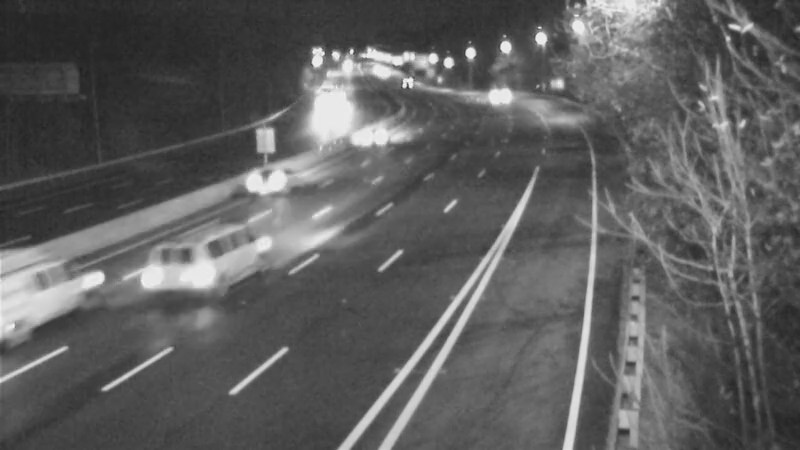vehicle: (246, 136, 326, 216), (153, 239, 233, 319), (6, 245, 86, 325), (382, 56, 432, 106), (463, 71, 513, 121), (355, 109, 405, 159)
